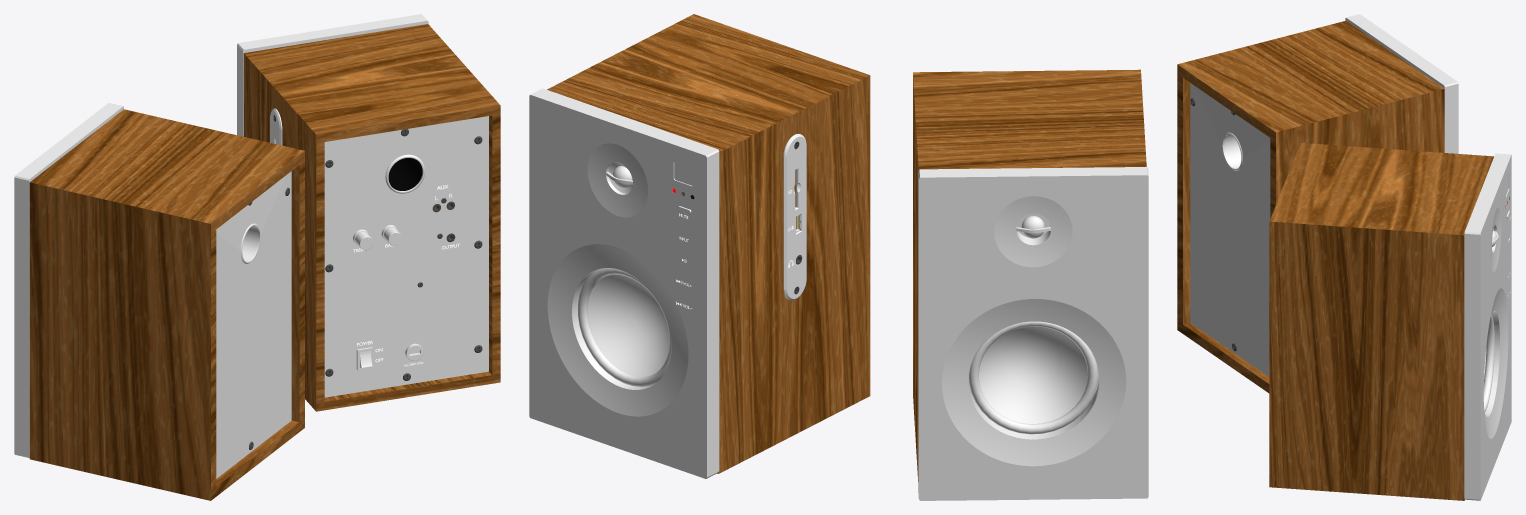
The model's file is speakers.glb.
3 renders of one model, left to right at view 1: azimuth 30°, elevation 25°; view 2: azimuth 150°, elevation 25°; view 3: azimuth 270°, elevation 25°, orthographic. The views are drawn at different scales.
Parts seen in each view (by area): view 1: Speaker_main_box.001, Speaker_main_box, Speaker_front_box.001, Speaker_front_box; view 2: Speaker_main_box, Speaker_front_box.001, Speaker_front_box, Speaker_main_box.001, Speaker_front_box.006, Speaker_front_box.003, Cube.003, Cube.008, Cylinder, Speaker_front_box.005, Torus.003, Speaker_front_box.002 (+5 smaller); view 3: Speaker_main_box, Speaker_main_box.001, Speaker_front_box, Speaker_front_box.001, Speaker_front_box.003, Torus, Speaker_front_box.004, Speaker_front_box.002.
Boxes of the visible parts, bbox=[...] form: Speaker_main_box.001: bbox=[29, 109, 304, 500]; Speaker_main_box: bbox=[243, 24, 500, 411]; Speaker_front_box.001: bbox=[14, 103, 123, 457]; Speaker_front_box: bbox=[237, 14, 428, 136]; Speaker_main_box: bbox=[547, 14, 870, 473]; Speaker_front_box.001: bbox=[918, 167, 1148, 500]; Speaker_front_box: bbox=[529, 88, 719, 478]; Speaker_main_box.001: bbox=[913, 69, 1146, 481]; Speaker_front_box.006: bbox=[942, 299, 1126, 466]; Speaker_front_box.003: bbox=[547, 244, 688, 416]; Cube.003: bbox=[979, 326, 1087, 423]; Cube.008: bbox=[588, 274, 669, 376]; Cylinder: bbox=[783, 133, 806, 300]; Speaker_front_box.005: bbox=[994, 196, 1072, 267]; Torus.003: bbox=[969, 322, 1097, 434]; Speaker_front_box.002: bbox=[587, 143, 647, 217]; Speaker_main_box: bbox=[1269, 143, 1493, 500]; Speaker_main_box.001: bbox=[1177, 21, 1444, 393]; Speaker_front_box: bbox=[1464, 153, 1511, 500]; Speaker_front_box.001: bbox=[1345, 14, 1458, 153]; Speaker_front_box.003: bbox=[1484, 288, 1508, 438]; Torus: bbox=[1483, 314, 1494, 412]; Speaker_front_box.004: bbox=[1485, 310, 1499, 416]; Speaker_front_box.002: bbox=[1490, 207, 1501, 271].
Size of the model in its own units: 4.13 by 2.38 by 2.65.
Materials: 43 (2 with a texture image).
